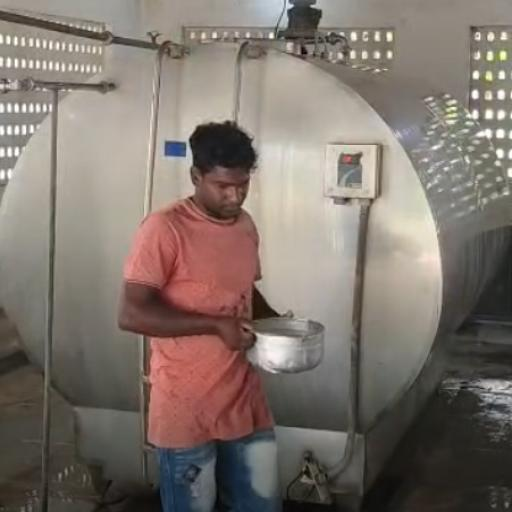silo: (0, 35, 511, 501)
vessel: (245, 315, 326, 375)
